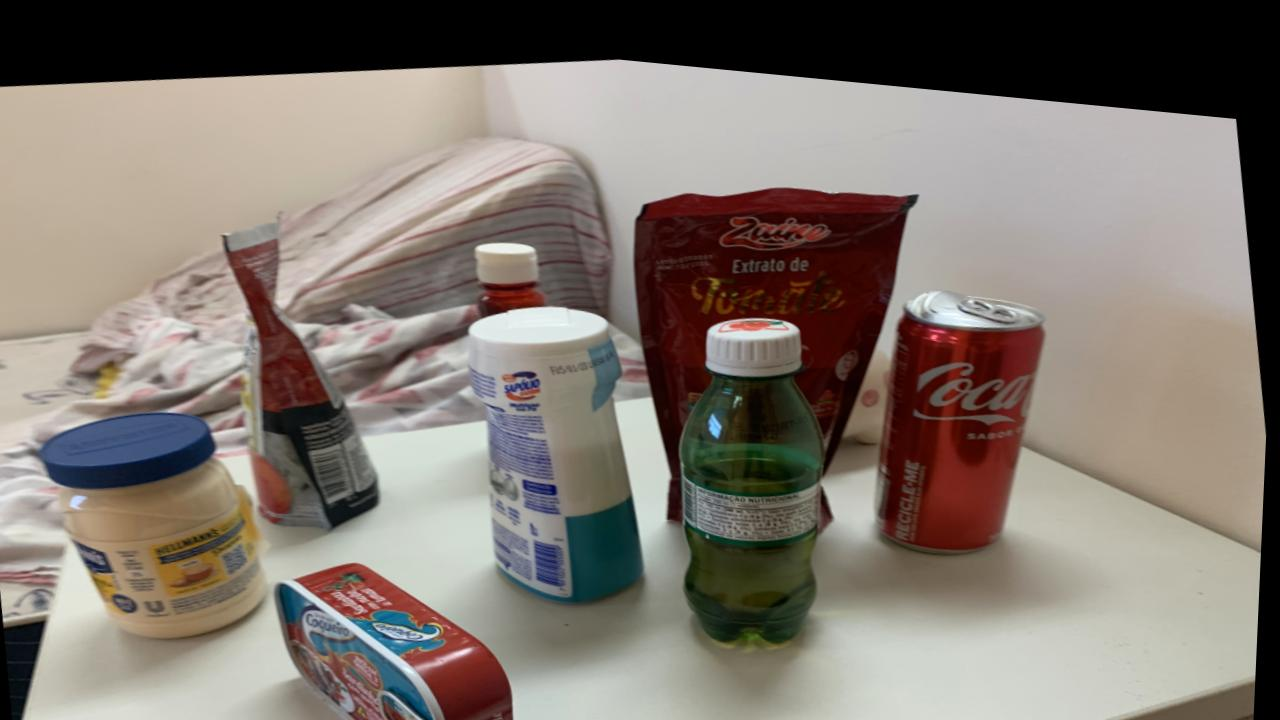Cleaner-Cleanup_Items: (470, 294, 648, 590)
Coke-Drinks: (879, 270, 1047, 533)
Guarana-Drinks: (682, 301, 828, 627)
Ketchup-Pantry_Items: (475, 231, 548, 306)
Mayonnaise-Pantry_Items: (45, 409, 272, 634)
Tomato_Sauce-Pantry_Items: (635, 171, 917, 504), (223, 218, 383, 520)
Tuna_Can-Pantry_Items: (280, 556, 520, 720)
